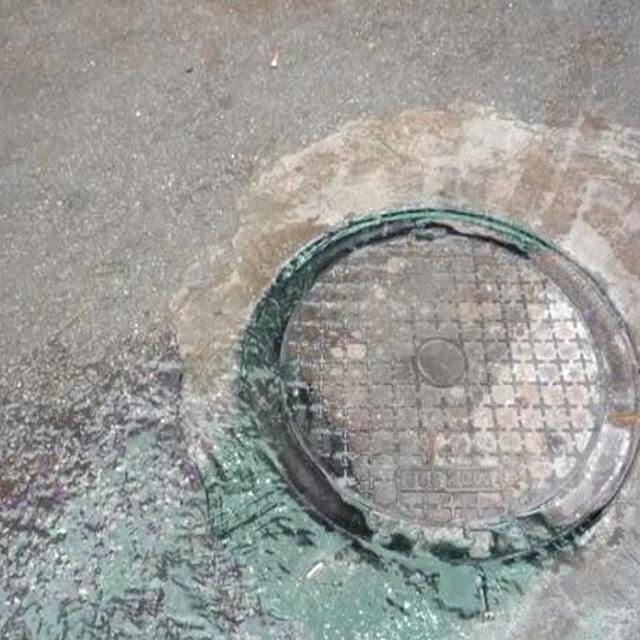circle: (179, 149, 640, 640)
